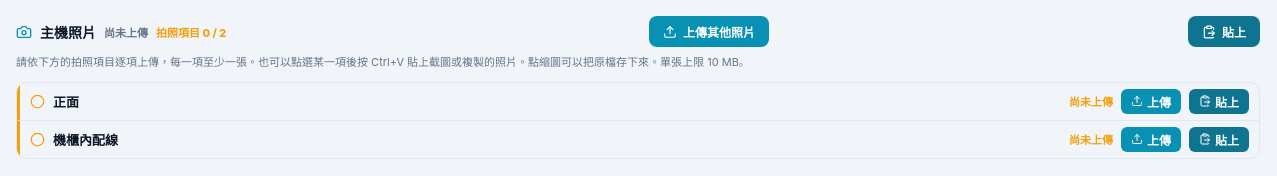
Test case: 主機照片區塊 › 點選某一列後按 Ctrl+V，照片掛到那一項
Check: the text "正面" is shown, box [53,92,79,111]
Click the element with test id "photo-item-502".
click(638, 139)  # box [17,120,1259,158]
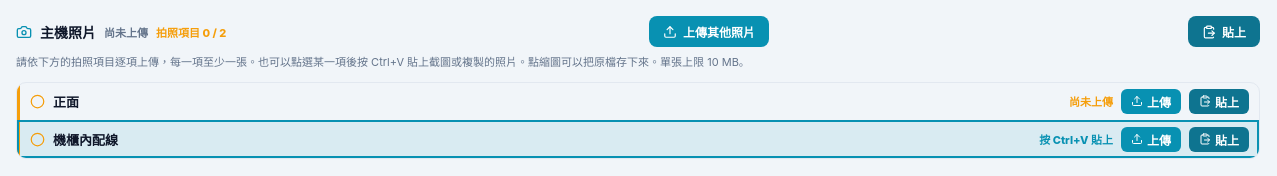
Check: the text with test id "photo-item-paste-hint-502" reads "按 Ctrl+V 貼上", box [1039,133,1113,147]
